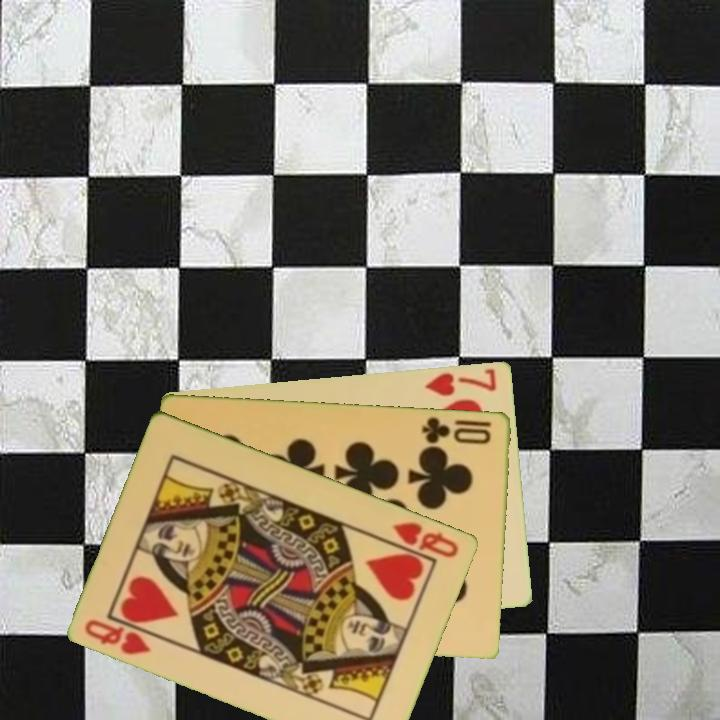10c: (419, 413, 494, 447)
7h: (422, 364, 500, 399)
Qh: (82, 613, 155, 658), (389, 518, 462, 561)
